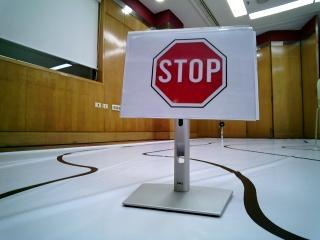stop: (129, 37, 253, 114)
